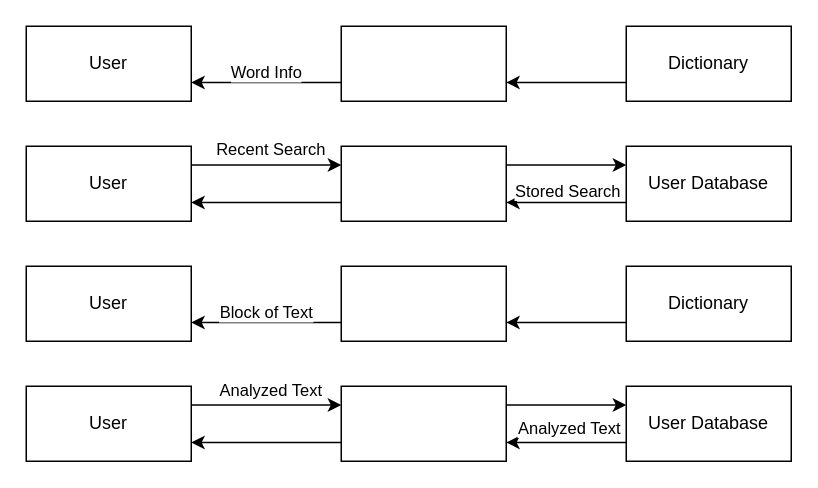
This 818x488 diagram has some shape labels left out. Here are the shapes that lost their labels. From the top down, the centre of each, then its label:
At point 423,63: "Retrieve Word Information".
At point 423,183: "Store/View Recent Search".
At point 423,303: "Analyze Text".
At point 423,423: "Store/View Analyzed Text".
